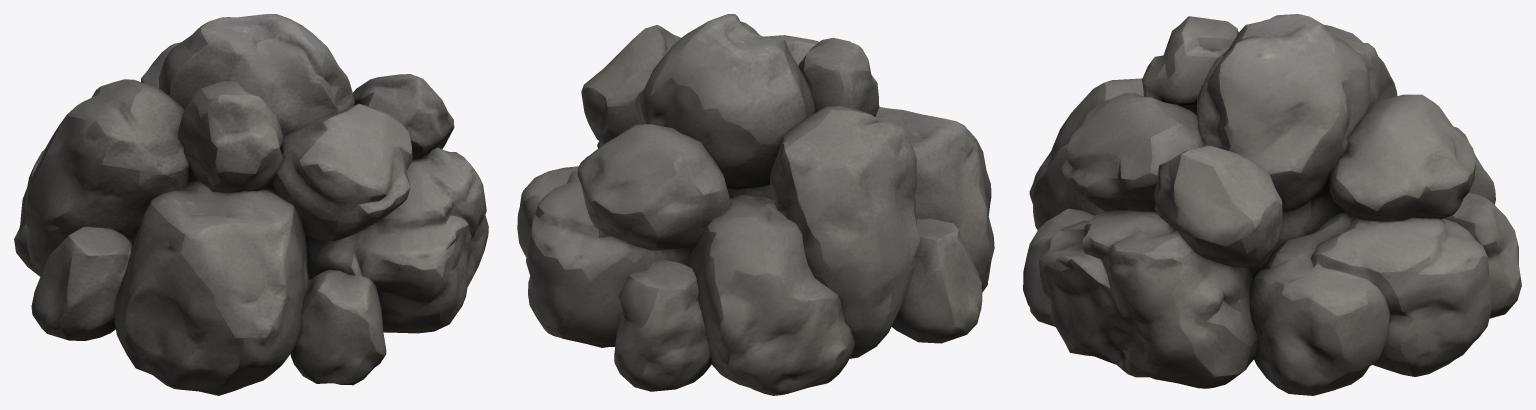
The picture shows the model from 3 angles, left to right: view 1: azimuth 30°, elevation 25°; view 2: azimuth 150°, elevation 25°; view 3: azimuth 270°, elevation 25°; orthographic projection. The views are drawn at different scales.
Visible parts, largest first — view 1: world; view 2: world; view 3: world.
Boxes of the visible parts, x1,y1,x2,y2 form: world: [14, 14, 488, 395]; world: [517, 14, 994, 395]; world: [1023, 14, 1521, 395].
Size of the model in its own units: 1 by 0.6668 by 0.996.
Materials: 1 (1 with a texture image).
